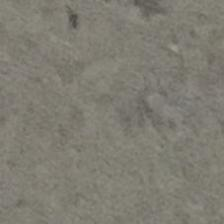Non_Crack: (24, 54, 224, 196)
